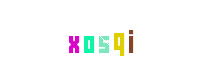I: (90, 0, 170, 80)
O: (55, 0, 135, 80)
Q: (79, 0, 159, 80)
S: (62, 0, 142, 80)
X: (34, 0, 114, 80)
